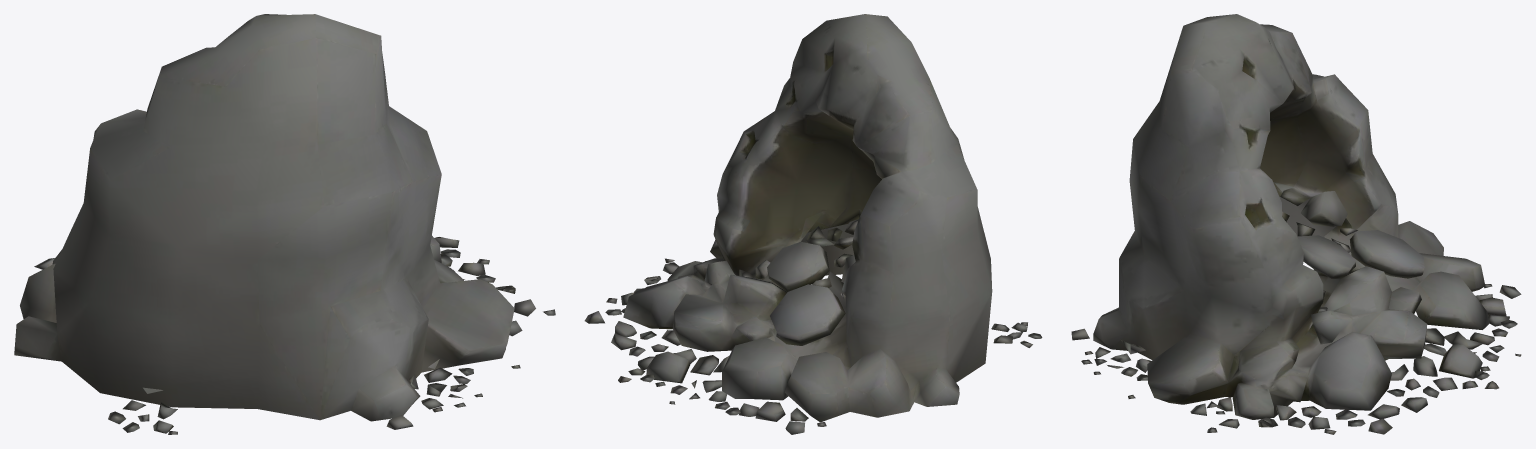
The model's file is node_ore_depleted.glb.
3 renders of one model, left to right at view 1: azimuth 30°, elevation 25°; view 2: azimuth 150°, elevation 25°; view 3: azimuth 270°, elevation 25°, orthographic. The views are drawn at different scales.
Parts seen in each view (by area): view 1: tripo_node_e4787bdb-9891-46c6-92d4-131da62f1829; view 2: tripo_node_e4787bdb-9891-46c6-92d4-131da62f1829; view 3: tripo_node_e4787bdb-9891-46c6-92d4-131da62f1829.
Part boxes in pixels (x1,y1,x2,y2): tripo_node_e4787bdb-9891-46c6-92d4-131da62f1829: [14, 14, 555, 434]; tripo_node_e4787bdb-9891-46c6-92d4-131da62f1829: [584, 14, 1042, 434]; tripo_node_e4787bdb-9891-46c6-92d4-131da62f1829: [1071, 14, 1521, 434].
Size of the model in its own units: 1.17 by 0.9001 by 1.17.
Materials: 1 (1 with a texture image).
